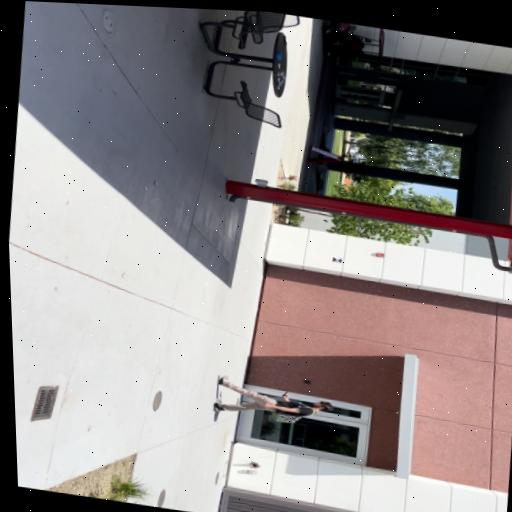target6: (332, 257, 342, 264)
